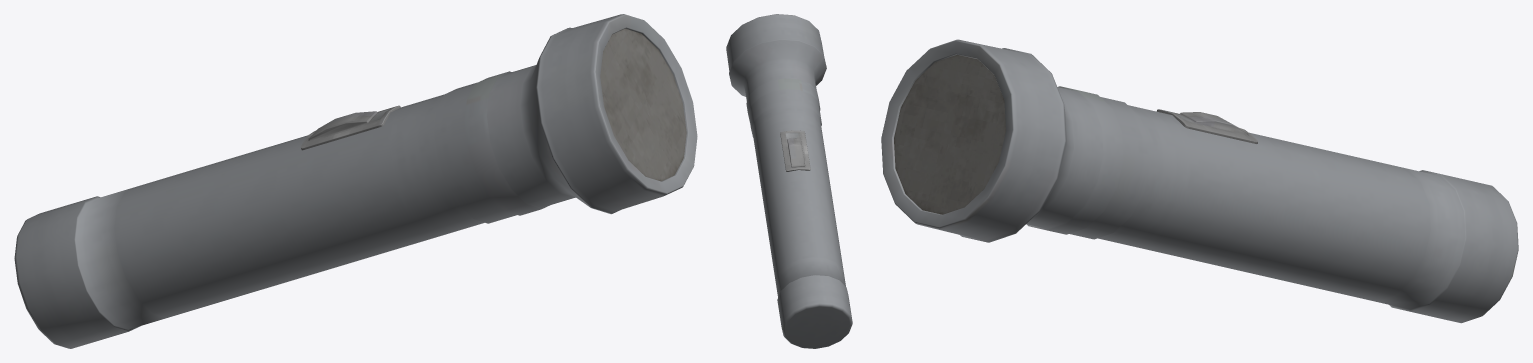
File: ref_flashlight2.glb
3 renders of one model, left to right at view 1: azimuth 30°, elevation 25°; view 2: azimuth 150°, elevation 25°; view 3: azimuth 270°, elevation 25°, orthographic. The views are drawn at different scales.
Visible parts, largest first — view 1: ref_flashlight2; view 2: ref_flashlight2; view 3: ref_flashlight2.
Part boxes in pixels (bbox=[...]): ref_flashlight2: bbox=[14, 14, 697, 348]; ref_flashlight2: bbox=[726, 14, 852, 348]; ref_flashlight2: bbox=[881, 39, 1518, 323].
Size of the model in its own units: 0.8477 by 0.7344 by 1.
Materials: 1 (1 with a texture image).
